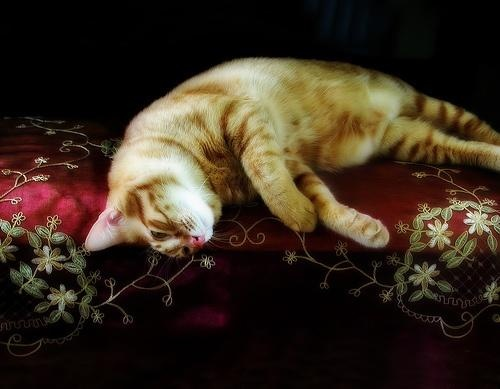cat: (79, 53, 500, 264)
